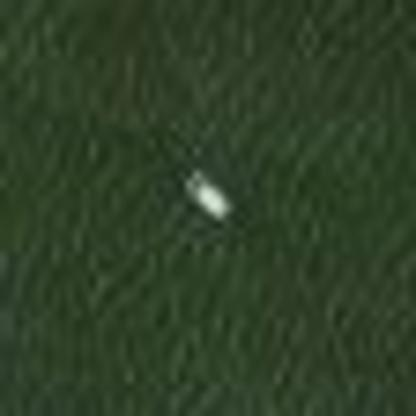ship: (173, 164, 241, 230)
